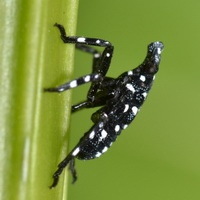insect: (44, 23, 163, 187)
